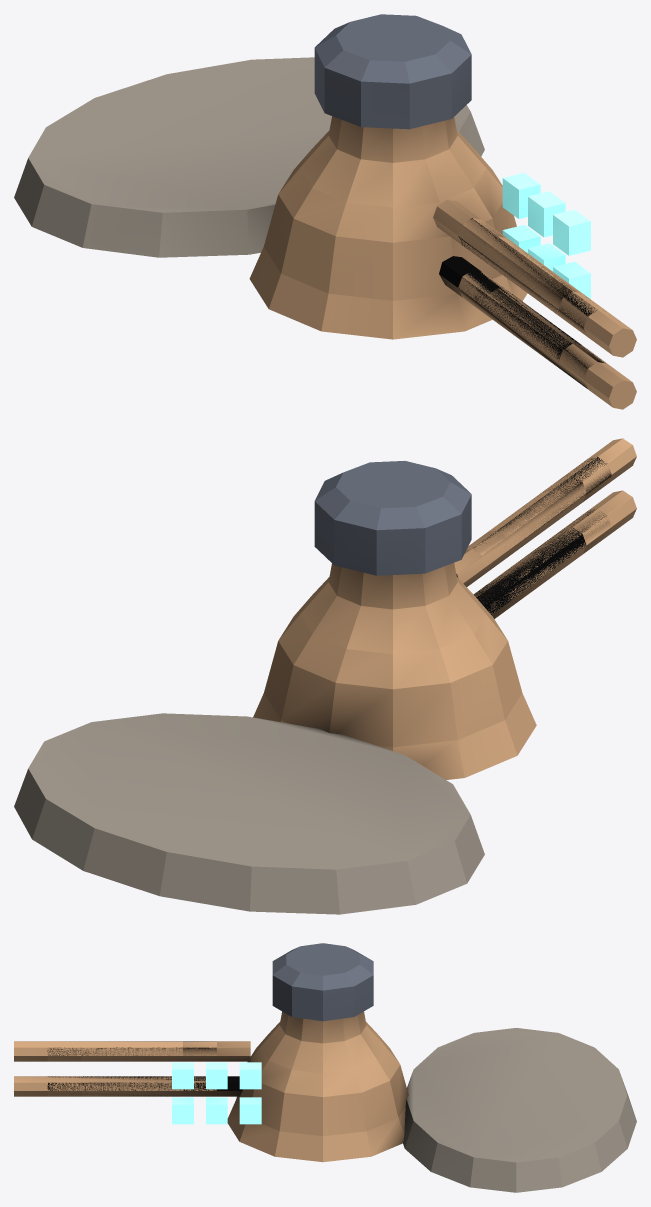
File: living_valley.glb
3 views of the same model, one above another, from view 1: azimuth 30°, elevation 25°; view 2: azimuth 150°, elevation 25°; view 3: azimuth 270°, elevation 25° (orthographic). The views are drawn at different scales.
Parts seen in each view (by area): view 1: living_valley; view 2: living_valley; view 3: living_valley.
Boxes of the visible parts, x1=… form: living_valley: x1=14, y1=14, x2=636, y2=409; living_valley: x1=14, y1=438, x2=636, y2=914; living_valley: x1=14, y1=943, x2=636, y2=1192.
Bounding box in the file's own units: 14 × 7.4 × 25.8.
